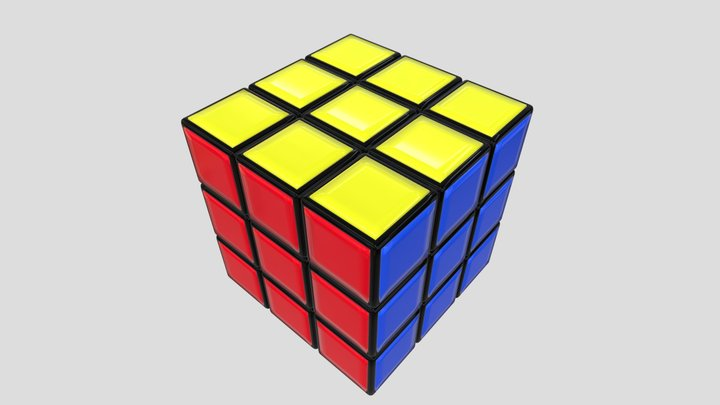cube: (175, 29, 538, 398)
